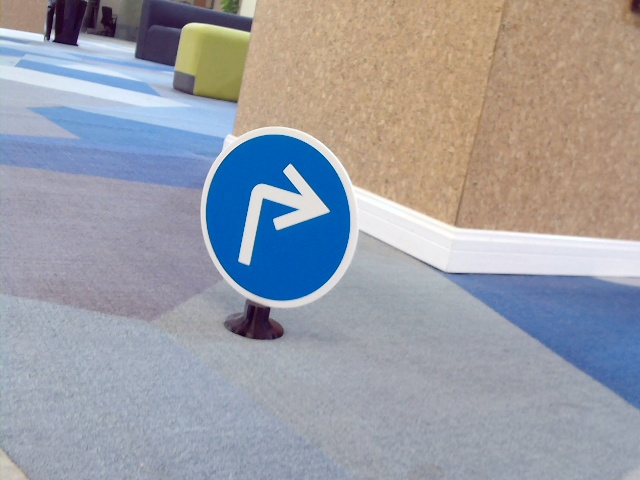turn_right: (239, 154, 326, 275)
